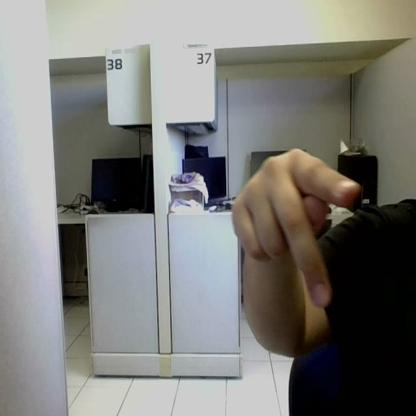P: (233, 146, 359, 308)
